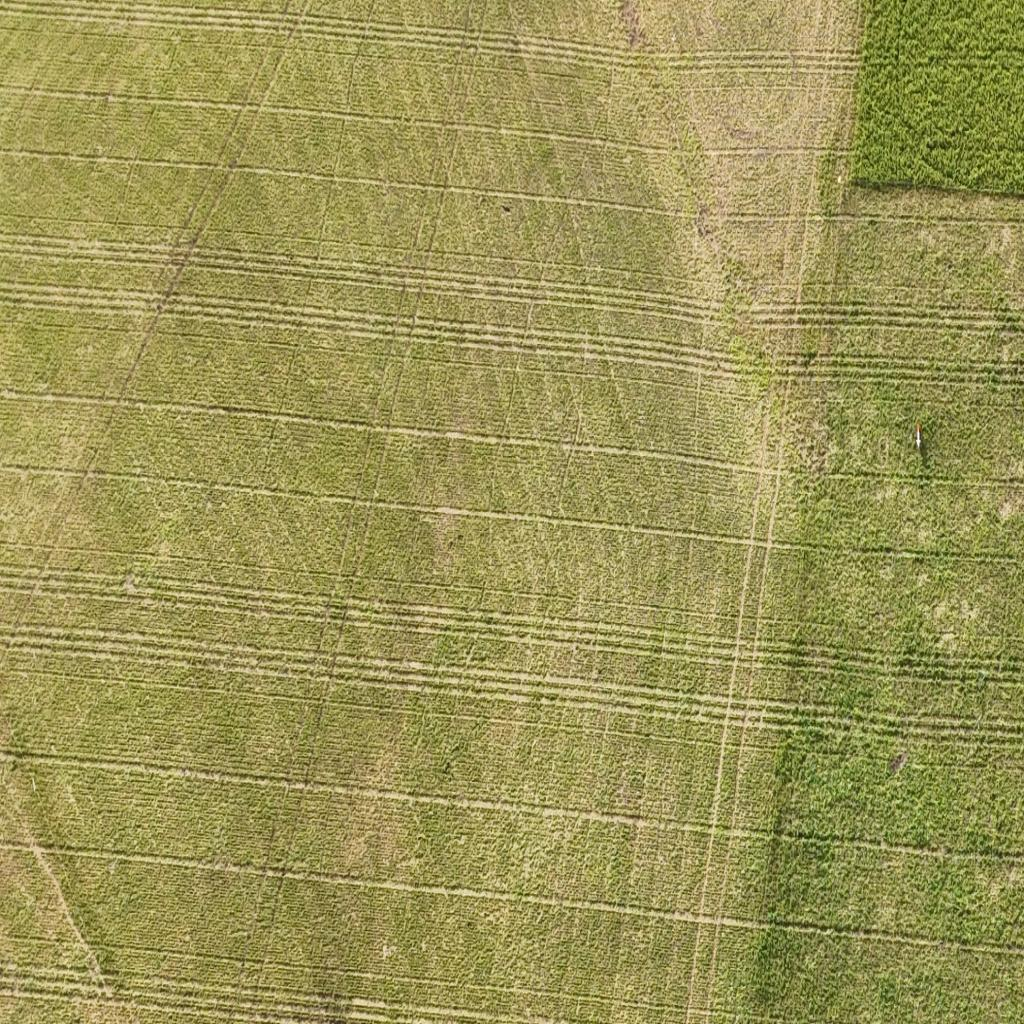cow: (913, 422, 923, 450)
